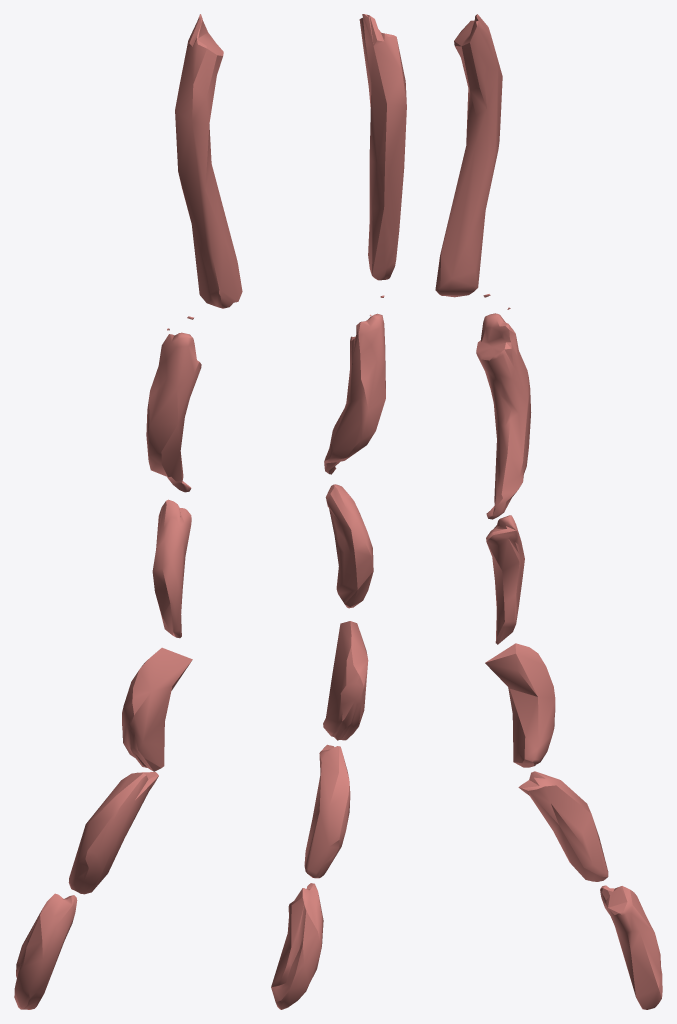
The model's file is fma71309_fj1552.glb.
3 views of the same model, side by side, from view 1: azimuth 90°, elevation 25°; view 2: azimuth 150°, elevation 25°; view 3: azimuth 270°, elevation 25° (orthographic). The views are drawn at different scales.
Visible parts, largest first — view 1: FMA71309_FJ1552; view 2: FMA71309_FJ1552; view 3: FMA71309_FJ1552.
Boxes of the visible parts, bbox=[...] form: FMA71309_FJ1552: bbox=[14, 14, 242, 1009]; FMA71309_FJ1552: bbox=[271, 14, 406, 1009]; FMA71309_FJ1552: bbox=[435, 14, 662, 1009].
Bounding box in the file's own units: 0.0078 × 0.0939 × 0.0195.
